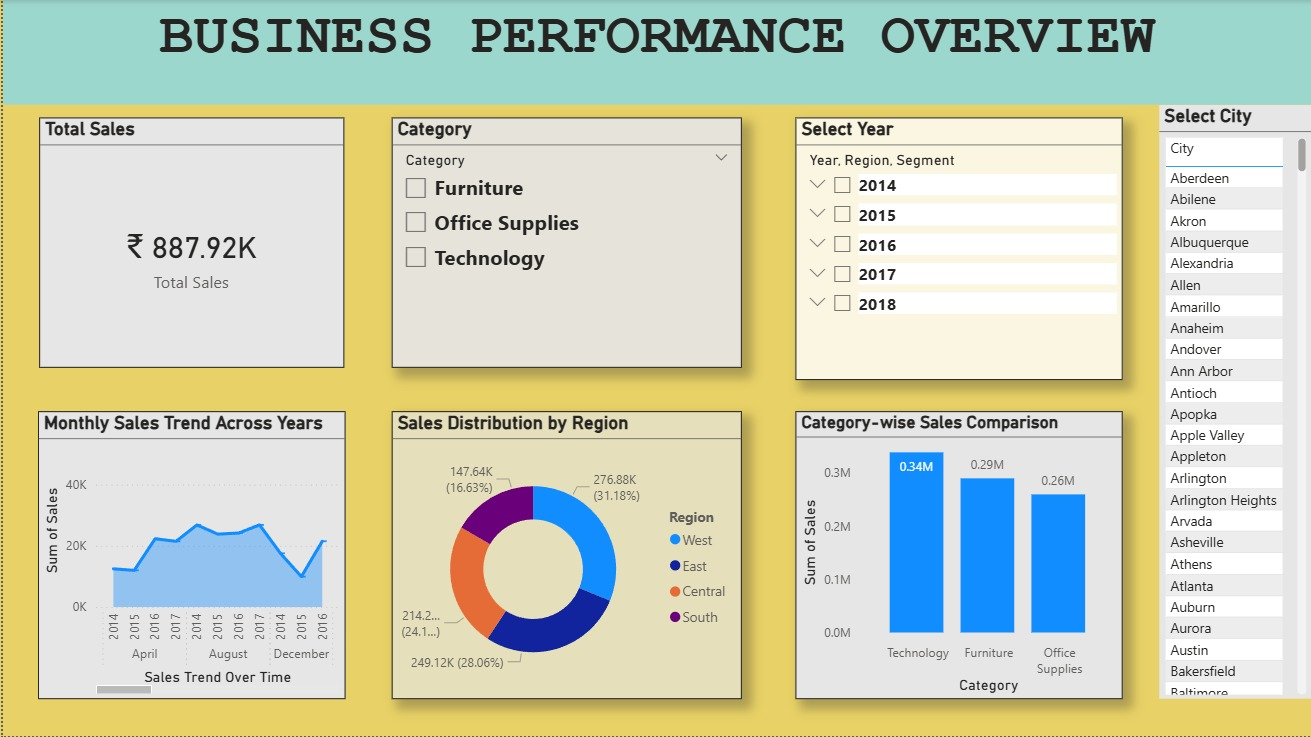

This screenshot's page, from the dashboard's own definition file:
{"tool":"powerbi","page":{"name":"Page 1","canvas":[1280,720],"ordinal":0},"visuals":[{"type":"clusteredColumnChart","title":"Category-wise Sales Comparison","fields":{"Category":["Sample - Superstore  →  Fact_Sales.Category"],"Y":["Sum(Sample - Superstore  →  Fact_Sales.Sales)"]},"box":[775.3,402.3,320.4,281.3],"z":0},{"type":"lineChart","title":"Monthly Sales Trend Across Years","fields":{"Category":["DateTable.Month Name","DateTable.Year"],"Y":["Sum(Sample - Superstore  →  Fact_Sales.Sales)"]},"box":[34.2,402.3,300.8,281.3],"z":1000},{"type":"slicer","title":"Category","fields":{"Values":["Sample - Superstore  →  Fact_Sales.Category"]},"box":[380.3,114.9,342.4,244.6],"z":2000},{"type":"donutChart","title":"Sales Distribution by Region","fields":{"Category":["Sample - Superstore  →  Fact_Sales.Region"],"Y":["Sum(Sample - Superstore  →  Fact_Sales.Sales)"]},"box":[380.3,402.3,342.4,281.3],"z":4000},{"type":"slicer","title":"Select Year","fields":{"Values":["DateTable.Year","Sample - Superstore  →  Fact_Sales.Region","Sample - Superstore  →  Fact_Sales.Segment"]},"box":[775.3,114.9,320.4,256.8],"z":5000},{"type":"card","title":"Total Sales","fields":{"Values":["Sample - Superstore  →  Fact_Sales.Total Sales"]},"box":[35.5,114.9,298.4,244.6],"z":5001},{"type":"textbox","box":[0,0,1280.3,102.7],"z":5002},{"type":"tableEx","title":"Select City","fields":{"Values":["Sample - Superstore  →  Fact_Sales.City"]},"box":[1131.1,102.7,149.2,580.8],"z":5003}]}

Visuals, with their boxes in screenshot pixels (x1, y1, x2, y2), scaled from the page's 1280x720 canvas onto the 1311x737 screenshot:
"Category-wise Sales Comparison" clusteredColumnChart: 794, 412, 1122, 700
"Monthly Sales Trend Across Years" lineChart: 35, 412, 343, 700
"Category" slicer: 390, 118, 740, 368
"Sales Distribution by Region" donutChart: 390, 412, 740, 700
"Select Year" slicer: 794, 118, 1122, 380
"Total Sales" card: 36, 118, 342, 368
textbox: 0, 0, 1310, 105
"Select City" tableEx: 1158, 105, 1310, 700
